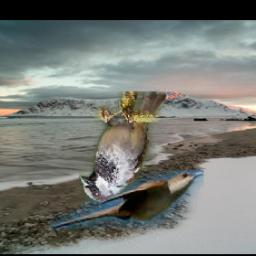Cuckoo: (50, 170, 204, 229)
Sparrow: (79, 92, 166, 203)
